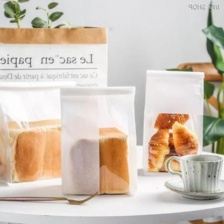glass: (160, 148, 224, 203)
snack: (0, 21, 115, 191), (54, 81, 144, 199), (137, 65, 212, 178)
